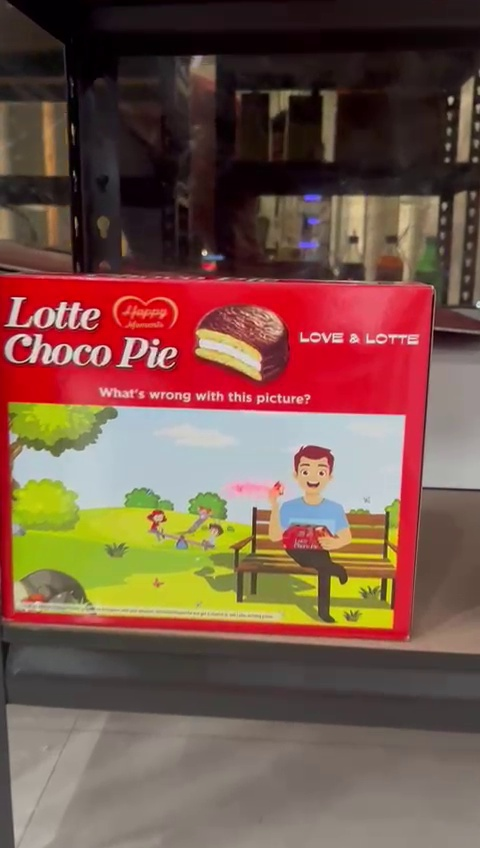Lotte Chocopie: (1, 268, 413, 641)
